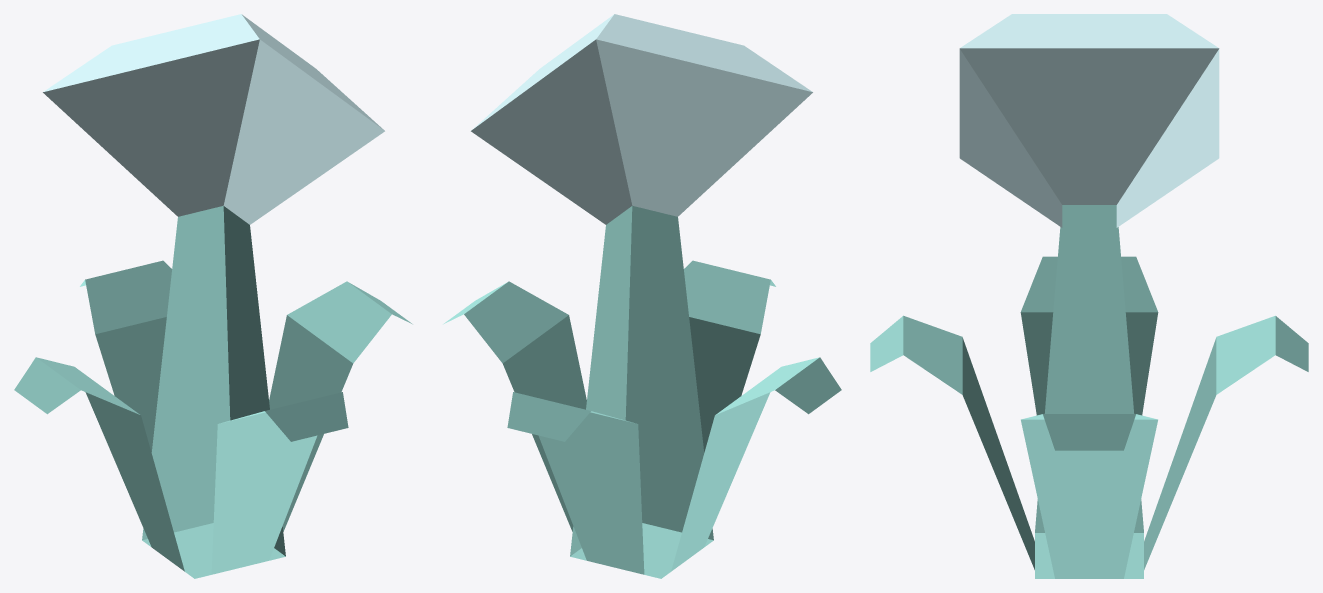
Rendered from flower_blue2.glb.
3 renders of one model, left to right at view 1: azimuth 30°, elevation 25°; view 2: azimuth 150°, elevation 25°; view 3: azimuth 270°, elevation 25°, orthographic. The views are drawn at different scales.
Visible parts, largest first — view 1: flower_blue2; view 2: flower_blue2; view 3: flower_blue2.
Boxes of the visible parts, x1,y1,x2,y2 form: flower_blue2: [14, 14, 412, 578]; flower_blue2: [443, 14, 841, 578]; flower_blue2: [870, 14, 1308, 578].
Size of the model in its own units: 1.71 by 2.2 by 1.71.
